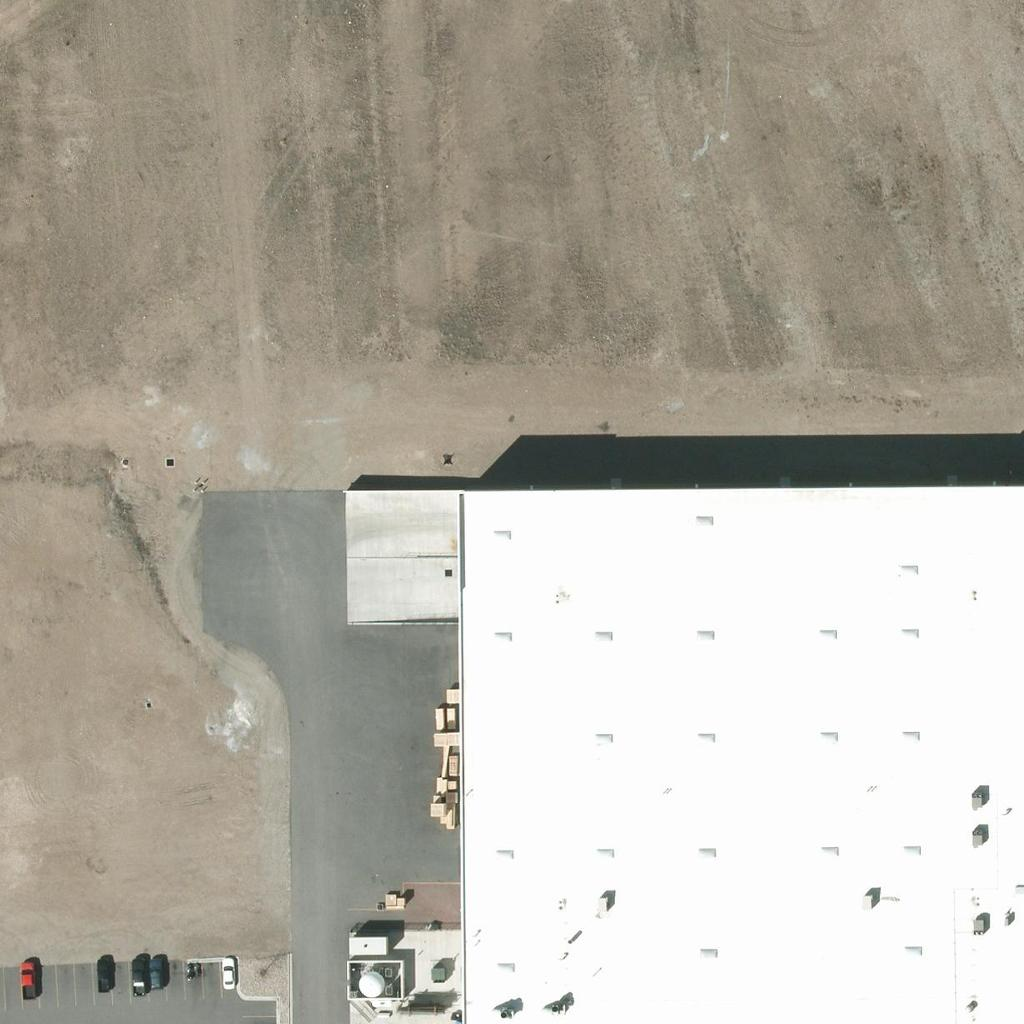car: (85, 952, 119, 986), (119, 956, 153, 990), (138, 958, 172, 992), (209, 958, 243, 992), (7, 961, 41, 995)
